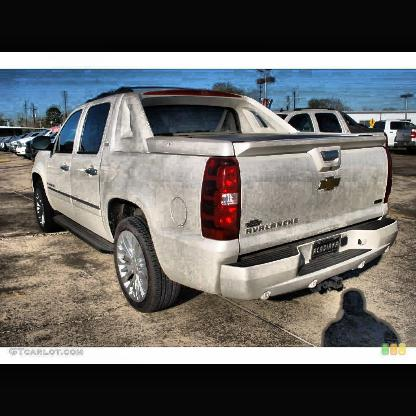Chevrolet Avalanche Crew Cab 2012: (30, 88, 401, 315)
